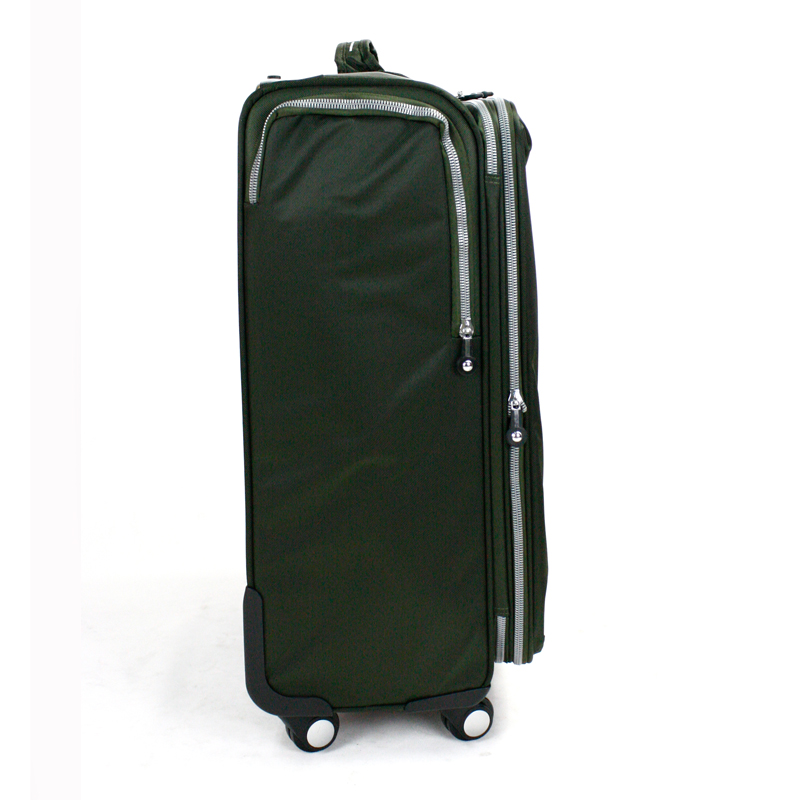luggage: (235, 40, 550, 750)
